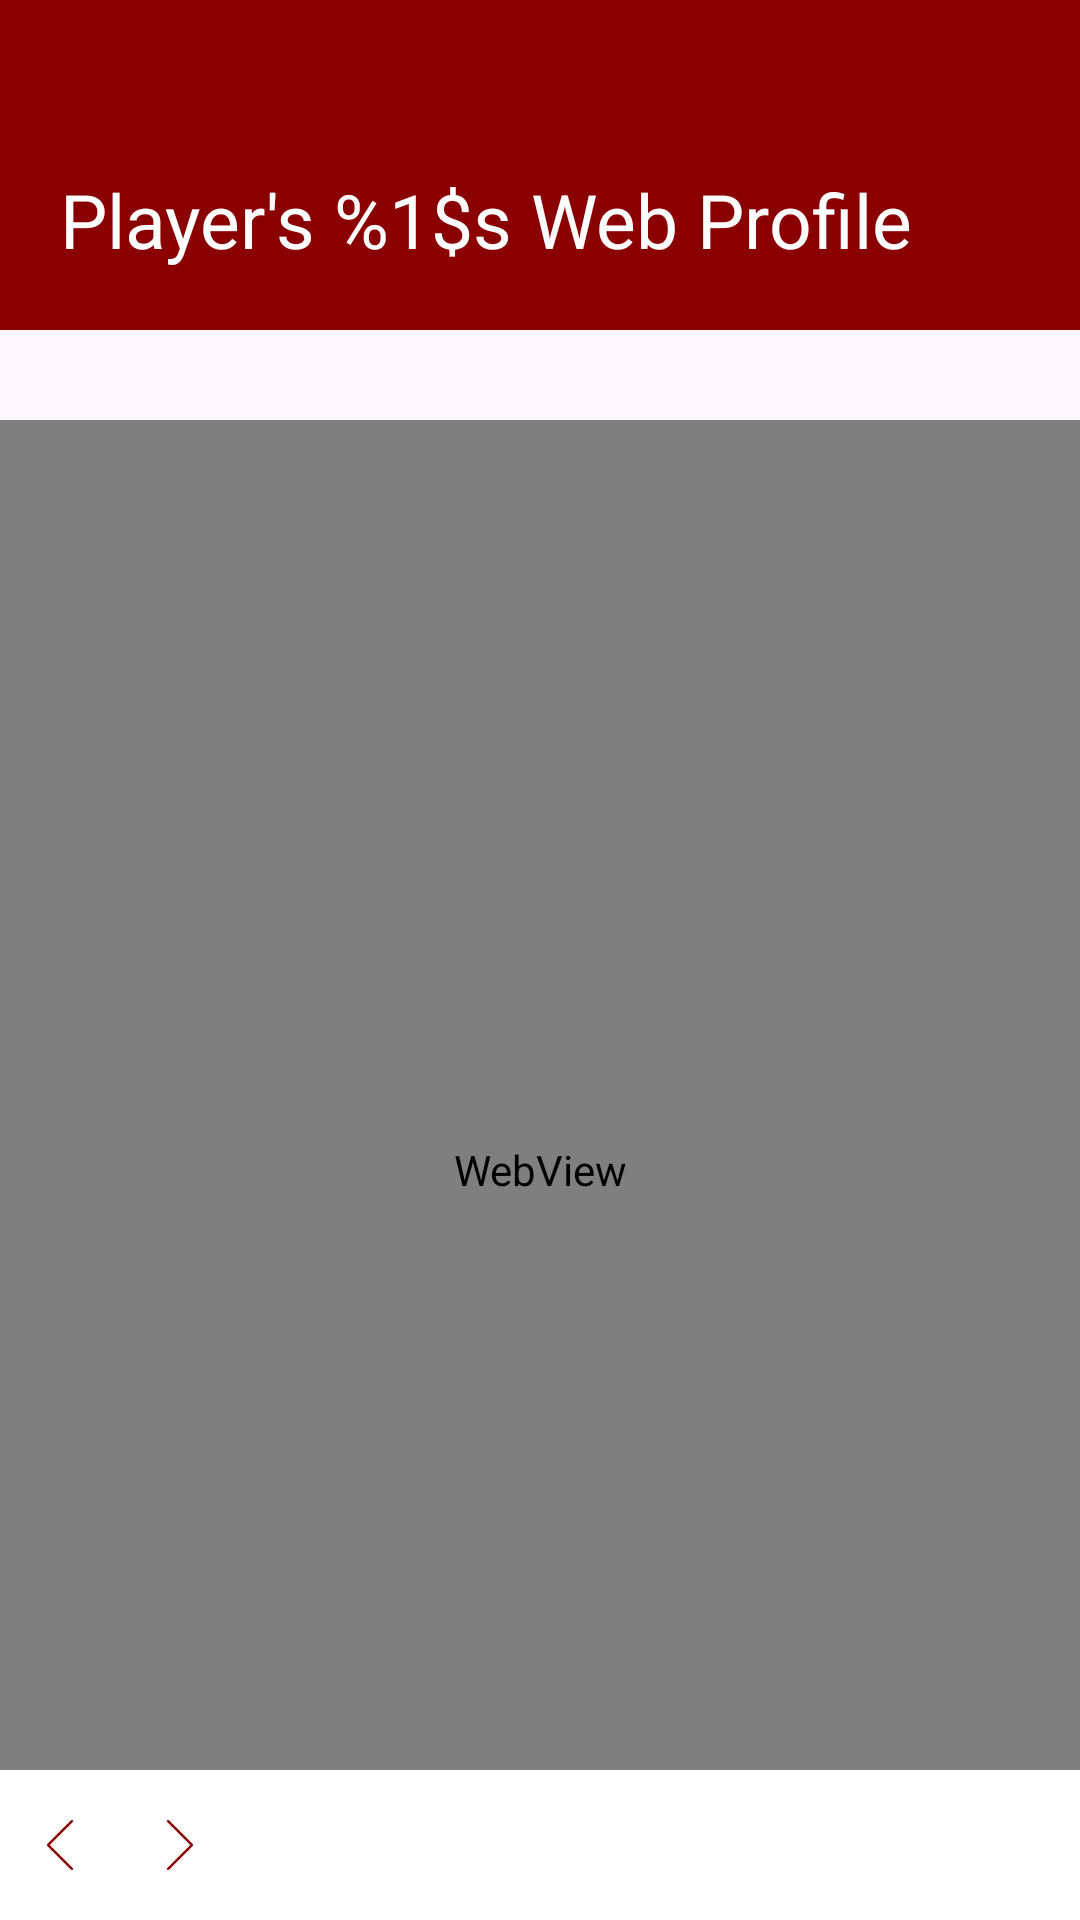

Locate icon controls on the screen. Image size 1080 x 1920, boxes as (x1, y1, x2, y2).
Back: (47, 1820, 73, 1870)
Forward: (167, 1820, 193, 1870)
